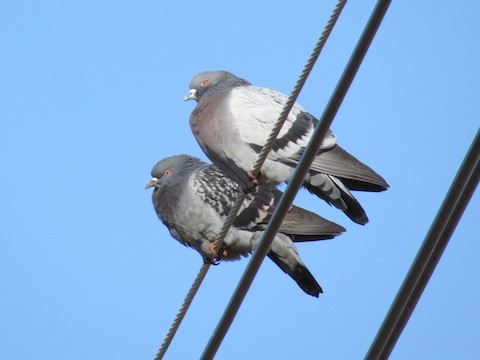pigeon: (180, 66, 390, 228), (144, 153, 348, 302)
